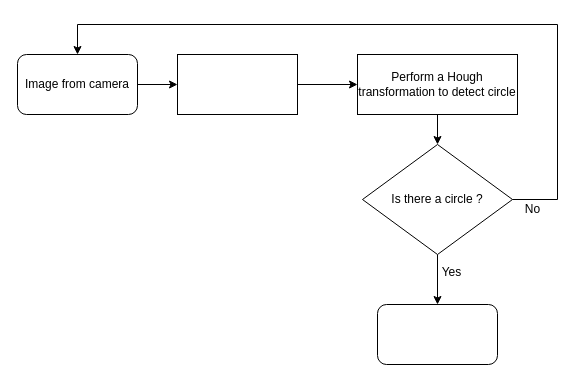
This 583x382 diagram has some shape labels left out. Here are the shapes that lost their labels. From the top down, the centre of each, then its label:
[237,84]: Filter keeps only ball color
[437,334]: Ball detected
